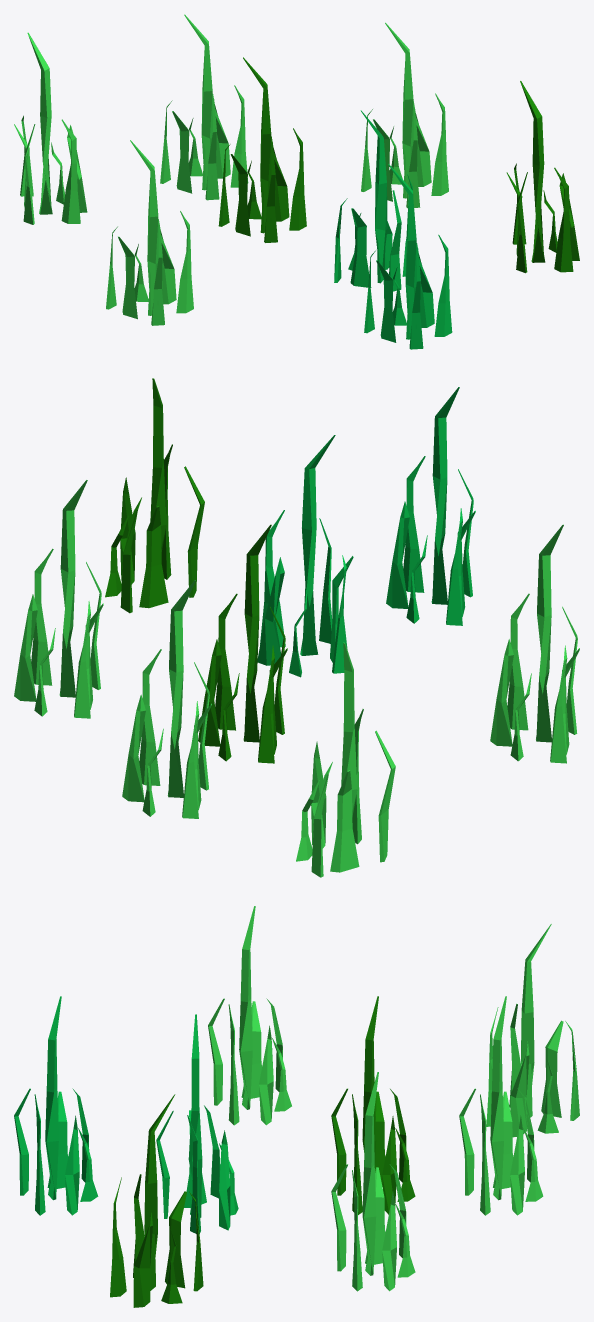
File: _rava.fbx
3 views of the same model, one above another, from view 1: azimuth 30°, elevation 25°; view 2: azimuth 150°, elevation 25°; view 3: azimuth 270°, elevation 25° (orthographic). The views are drawn at different scales.
Parts seen in each view (by area): view 1: trava.007; view 2: trava.007; view 3: trava.007.
Boxes of the visible parts, x1,y1,x2,y2 form: trava.007: [14, 14, 579, 349]; trava.007: [14, 378, 579, 877]; trava.007: [14, 906, 579, 1307].
Size of the model in its own units: 296 by 122 by 326.
